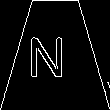N_N: (36, 30, 74, 80)
